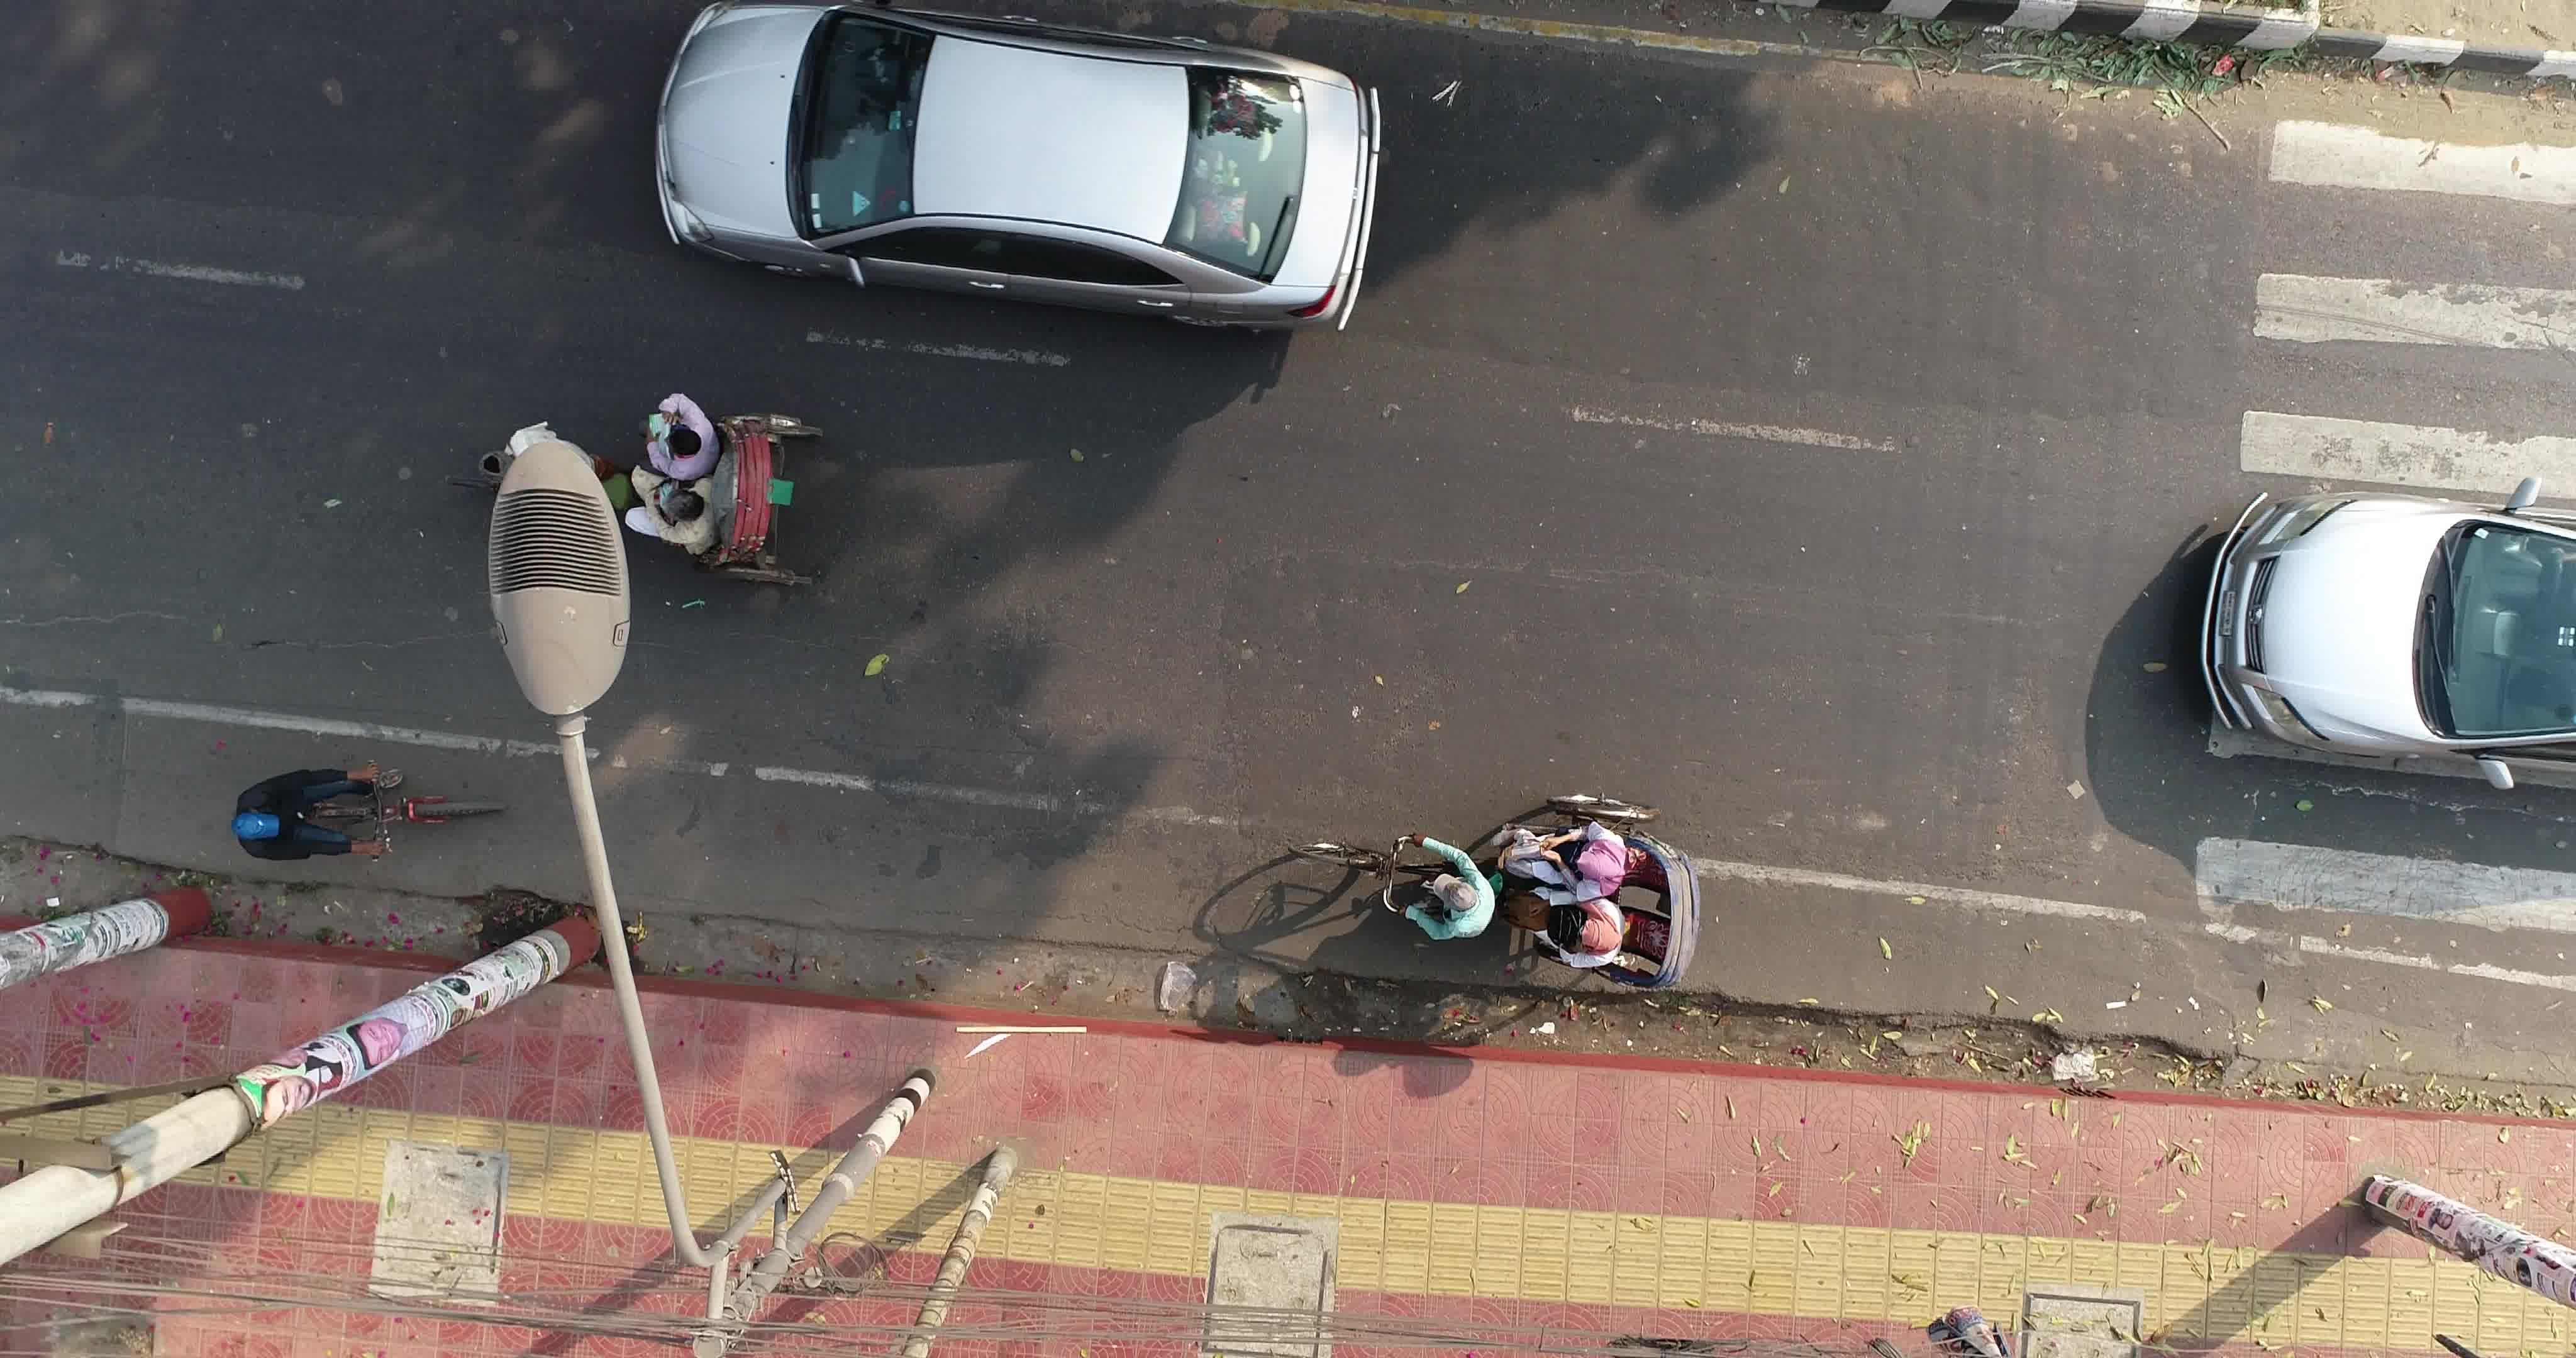bicycle: (228, 755, 513, 869)
car: (656, 0, 1383, 334)
rickshaw: (2206, 475, 2576, 796), (1295, 789, 1702, 993), (469, 390, 833, 591)
